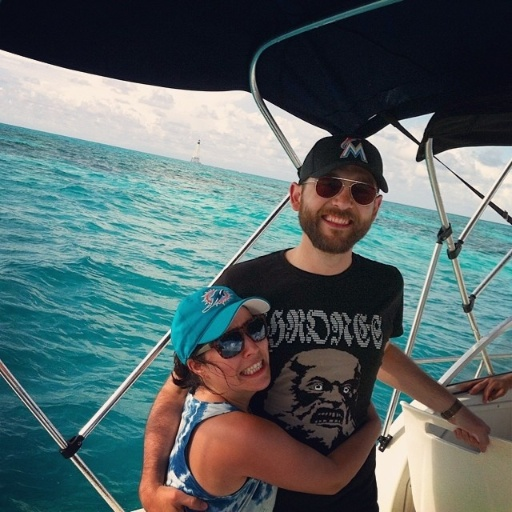hand: (137, 480, 211, 511), (467, 374, 511, 408), (454, 416, 489, 449), (366, 400, 382, 425)
